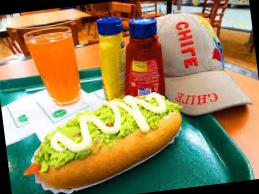Completos: (22, 87, 191, 194)
